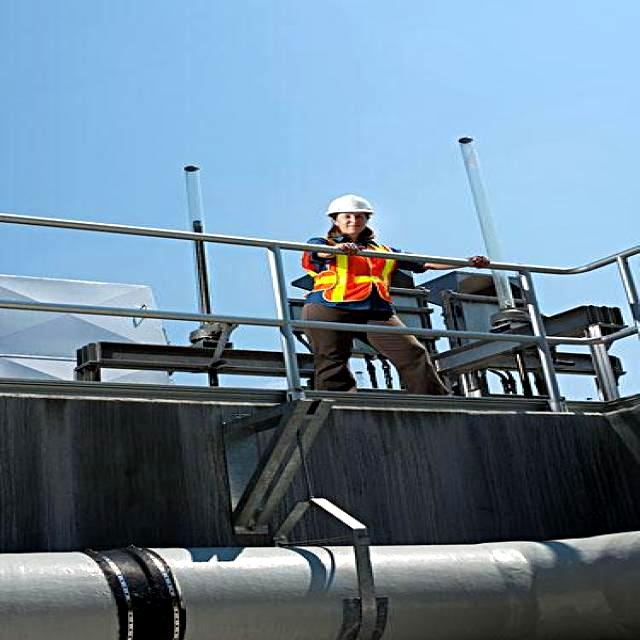hard_hat: (328, 194, 374, 234)
person: (300, 195, 449, 326)
